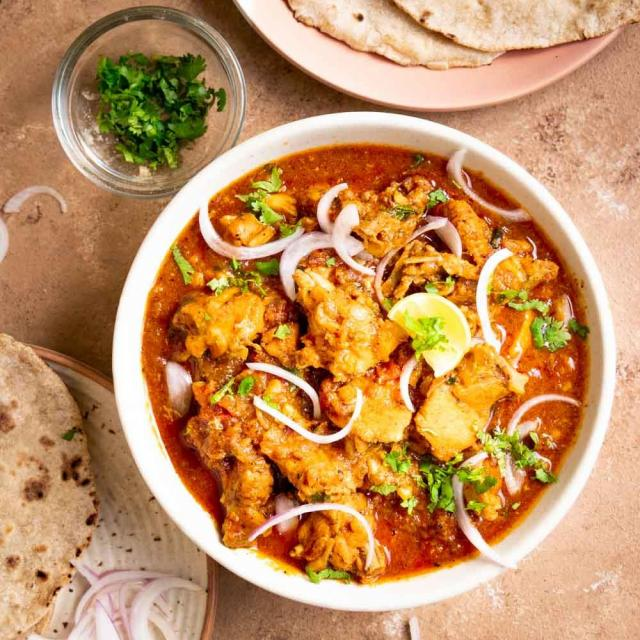chicken: (155, 156, 573, 574)
roti: (299, 4, 640, 76), (6, 341, 80, 632)
